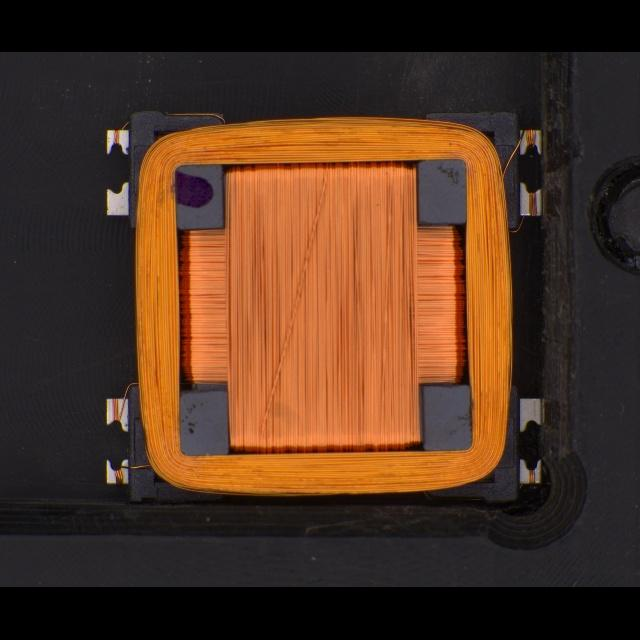Winding_Z: (117, 110, 522, 502)
